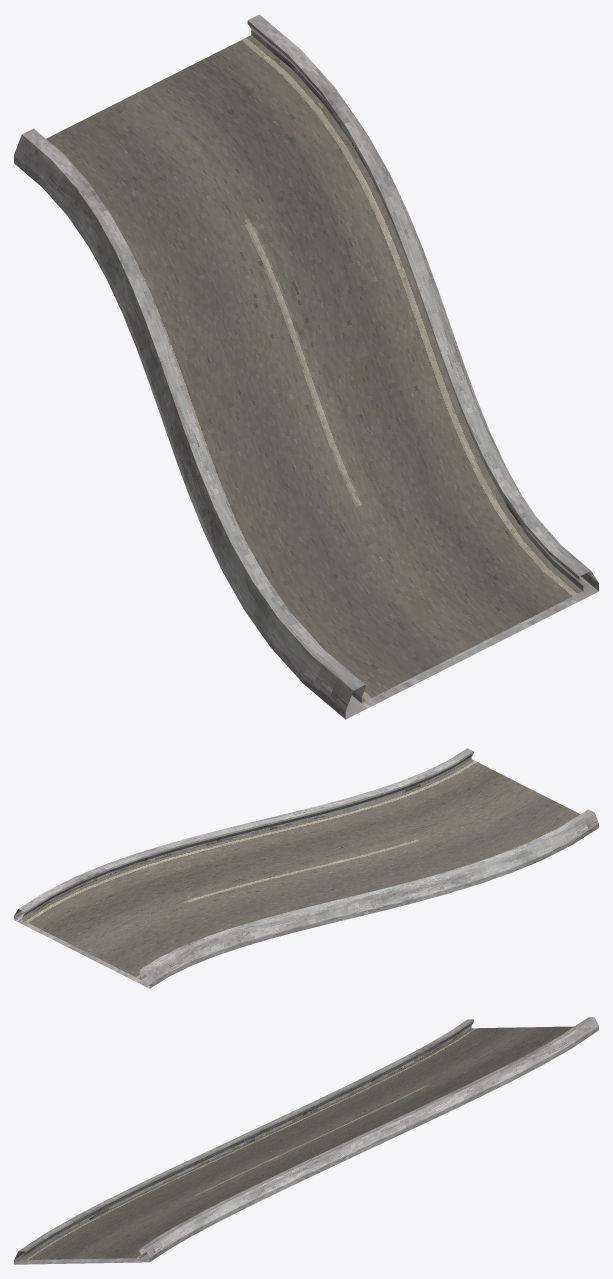
Rendered from road-Chicane-HalfBankedLeft-HalfBankedLeft-Up1-Right1-Size4.glb.
The picture shows the model from 3 angles, top to bottom: view 1: azimuth 30°, elevation 25°; view 2: azimuth 150°, elevation 25°; view 3: azimuth 330°, elevation 25°; orthographic projection. The views are drawn at different scales.
Visible parts, largest first — view 1: road-Chicane-HalfBankedLeft-HalfBankedLeft-Up1-Right1-Size4; view 2: road-Chicane-HalfBankedLeft-HalfBankedLeft-Up1-Right1-Size4; view 3: road-Chicane-HalfBankedLeft-HalfBankedLeft-Up1-Right1-Size4.
Part boxes in pixels (x1,y1,x2,y2): road-Chicane-HalfBankedLeft-HalfBankedLeft-Up1-Right1-Size4: (14,14,598,719); road-Chicane-HalfBankedLeft-HalfBankedLeft-Up1-Right1-Size4: (14,748,598,988); road-Chicane-HalfBankedLeft-HalfBankedLeft-Up1-Right1-Size4: (14,1017,598,1264).
Size of the model in its own units: 2 by 0.5859 by 4.
2 materials, 2 textured.
